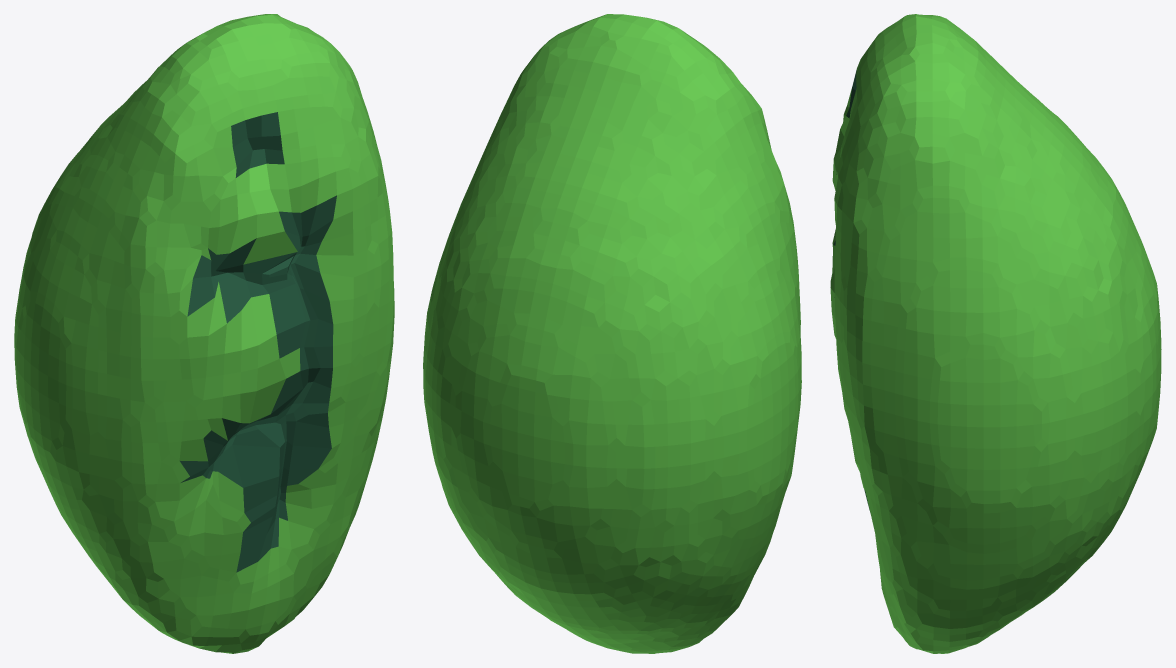
The model's file is rightEye.fbx.
The picture shows the model from 3 angles, left to right: view 1: azimuth 30°, elevation 25°; view 2: azimuth 150°, elevation 25°; view 3: azimuth 270°, elevation 25°; orthographic projection.
Visible parts, largest first — view 1: RuightEye; view 2: RuightEye; view 3: RuightEye.
Boxes of the visible parts, left/top/right/bottom form: RuightEye: left=14, top=14, right=394, bottom=653; RuightEye: left=423, top=14, right=801, bottom=653; RuightEye: left=830, top=14, right=1161, bottom=653.
Bounding box in the file's own units: 31.03 × 55.36 × 26.59.
